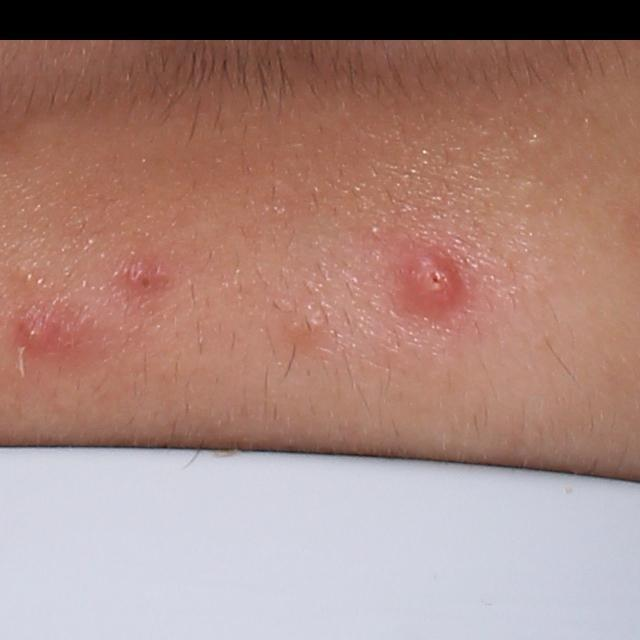papule: (398, 245, 462, 307), (128, 260, 156, 292)
